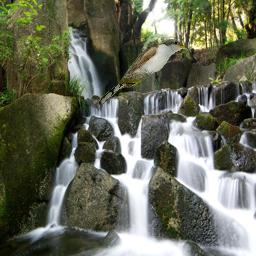Cuckoo: (97, 38, 191, 105)
